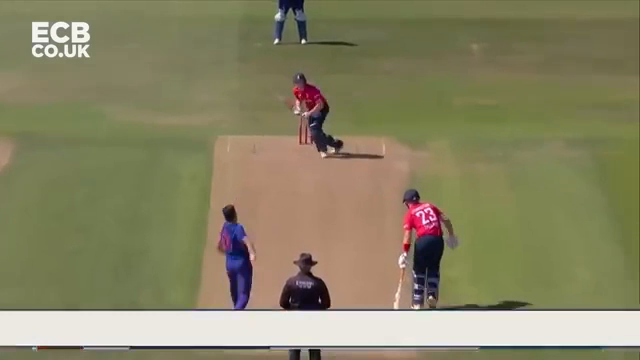Bowler: (212, 203, 257, 307)
Umpire: (282, 254, 334, 307)
batsman: (391, 190, 461, 309), (287, 69, 347, 157)
